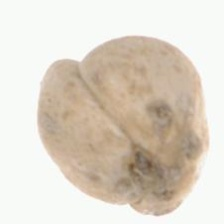L1: (127, 153, 188, 216)
L2: (36, 34, 211, 215)
